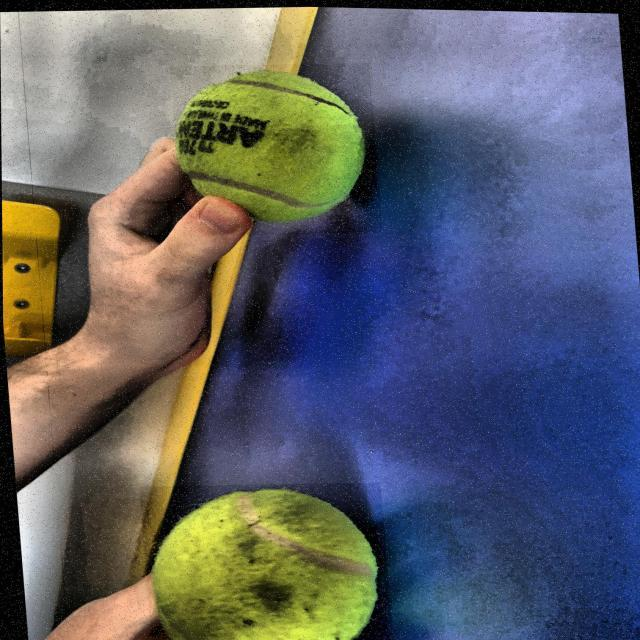tennis-ball: (137, 476, 393, 640), (170, 58, 382, 239)
